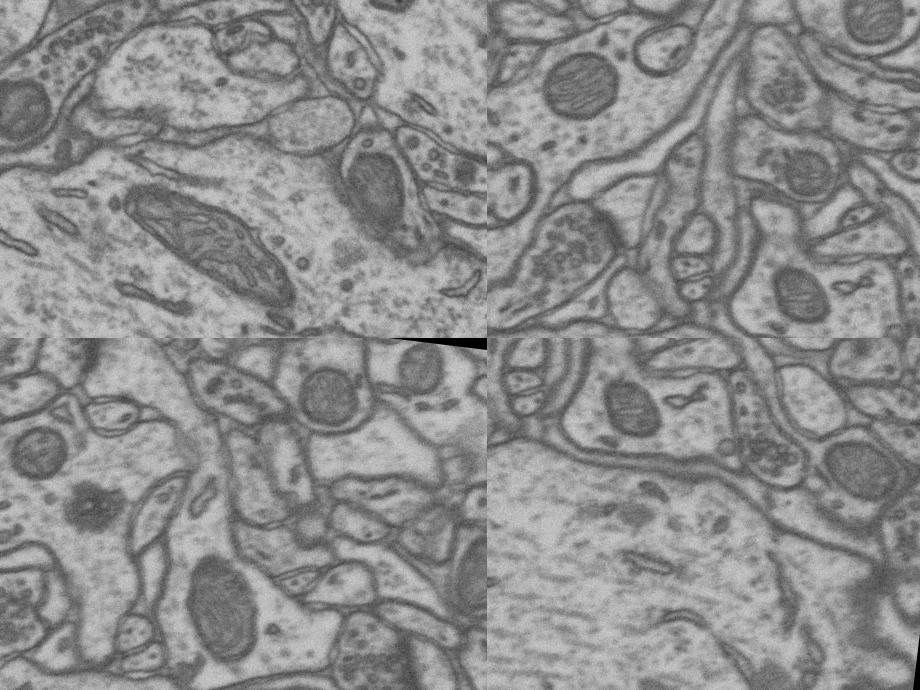mitochondria: (101, 167, 324, 332), (170, 548, 280, 684), (799, 420, 920, 516), (525, 36, 634, 136), (330, 136, 426, 244), (278, 342, 372, 438), (590, 373, 690, 460), (758, 258, 857, 338), (0, 57, 70, 154), (0, 410, 80, 494), (376, 338, 455, 421), (769, 126, 839, 211), (429, 536, 487, 636), (819, 0, 911, 56), (333, 0, 431, 26)
